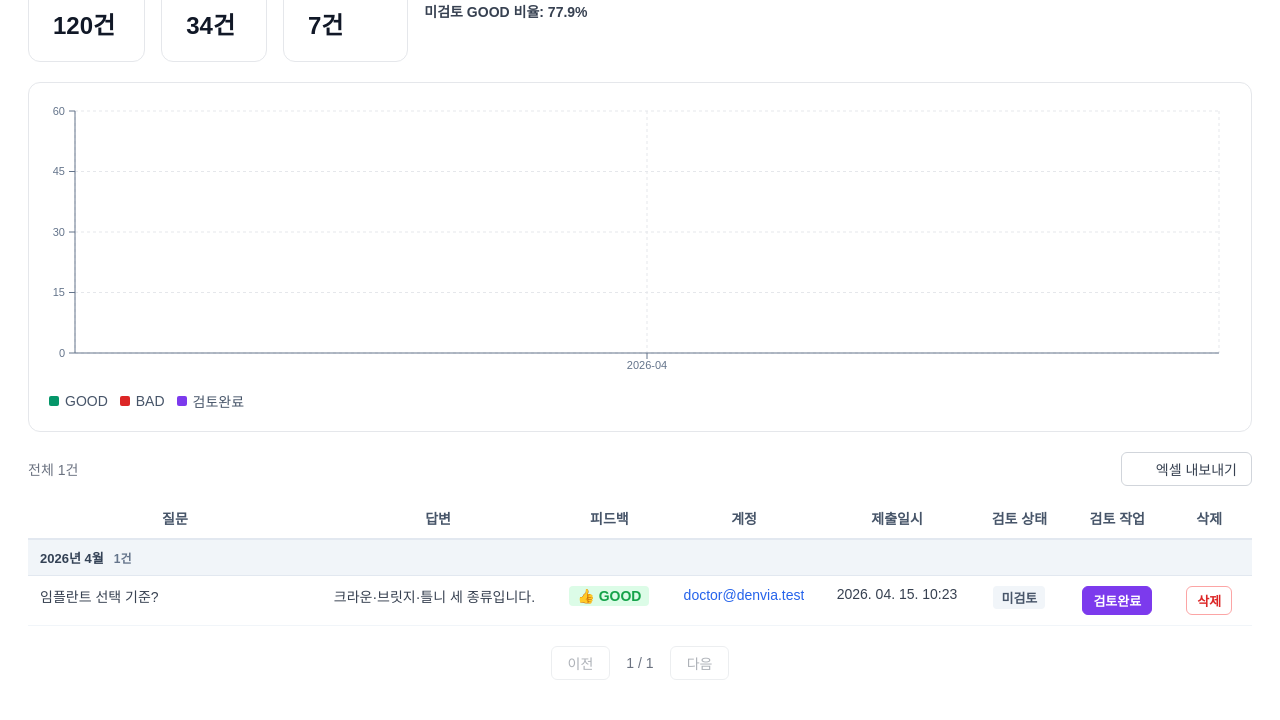
FeedbackPage › 데이터 로드 후 테이블 행 클릭 → Drawer 오픈
(page scrolled)
Expected: the text "임플란트 선택 기준?" is shown, [40,589,159,605]
Click the row named "피드백 상세 보기".
click(640, 600)  # box [28,576,1252,626]
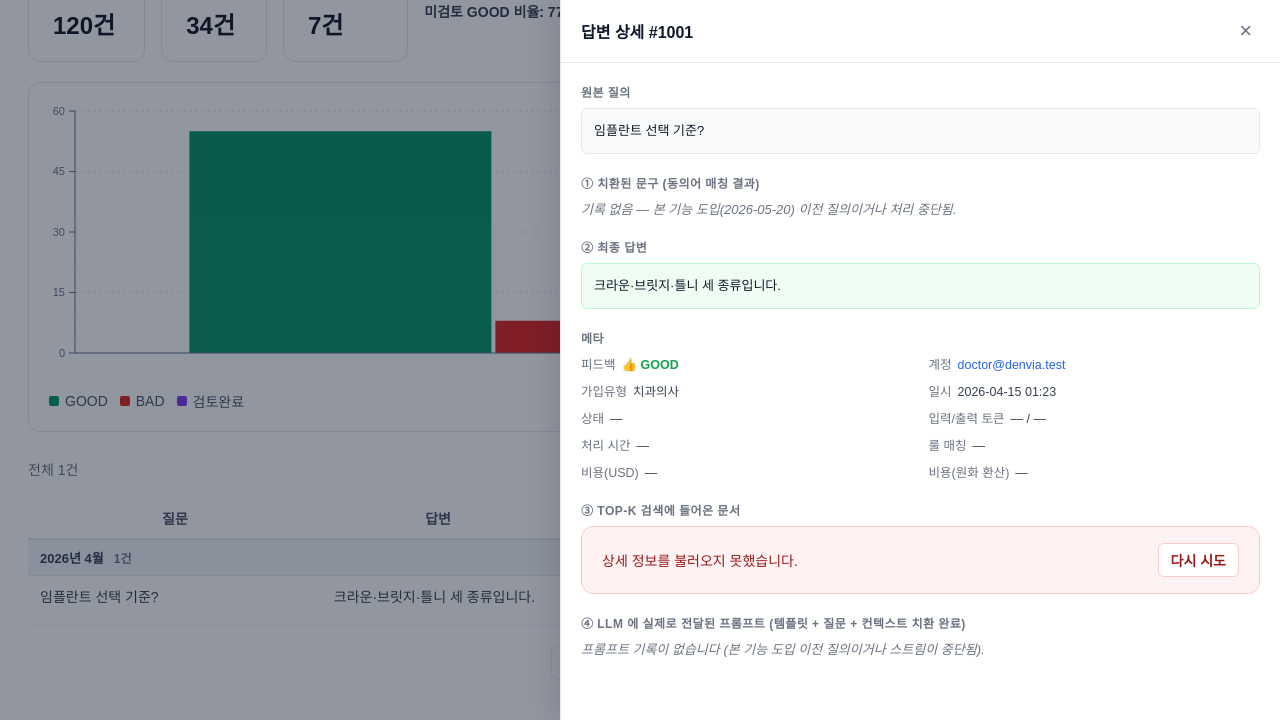
Now the dialog "답변 상세" is shown
